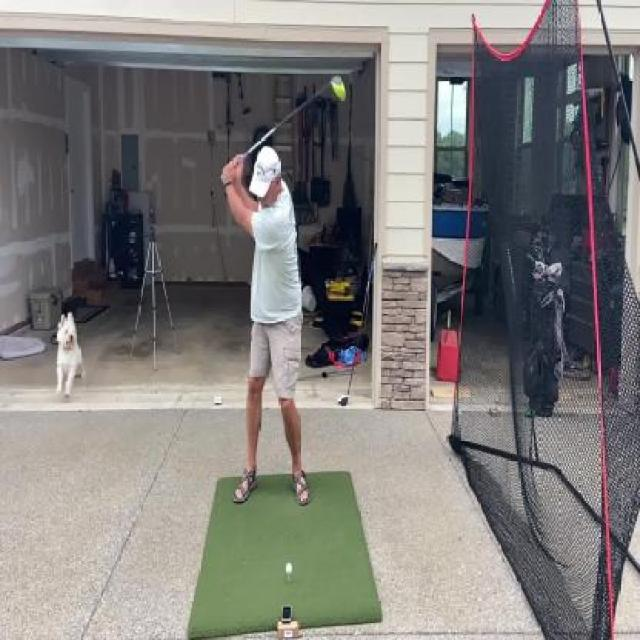club head: (327, 75, 347, 102)
